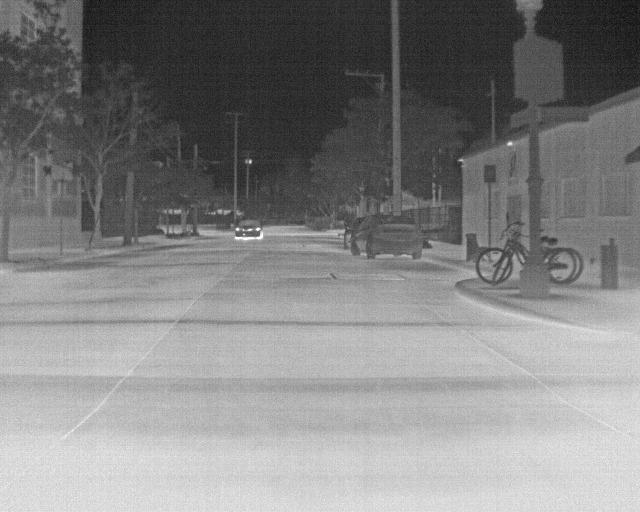bicycle: (474, 219, 528, 286), (542, 235, 577, 285)
car: (349, 212, 423, 260), (341, 216, 362, 249), (234, 217, 262, 240)
